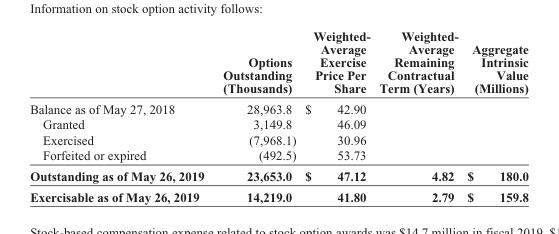table: (29, 28, 527, 203)
table column: (29, 28, 212, 203), (374, 28, 462, 203), (212, 28, 299, 203), (299, 28, 374, 203), (462, 28, 527, 203)
table column header: (29, 28, 527, 98)
table row: (29, 28, 527, 98), (29, 165, 527, 185), (29, 98, 527, 116), (29, 147, 527, 165), (29, 185, 527, 203), (29, 131, 527, 147), (29, 116, 527, 131)
